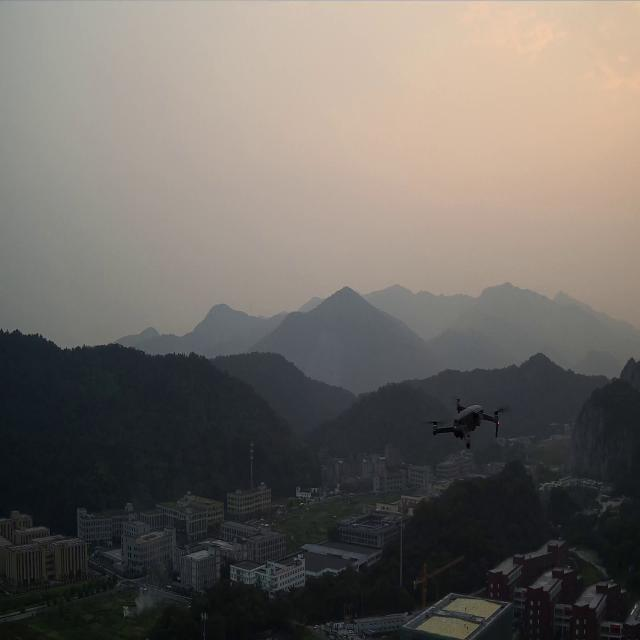UAV: (430, 396, 503, 450)
